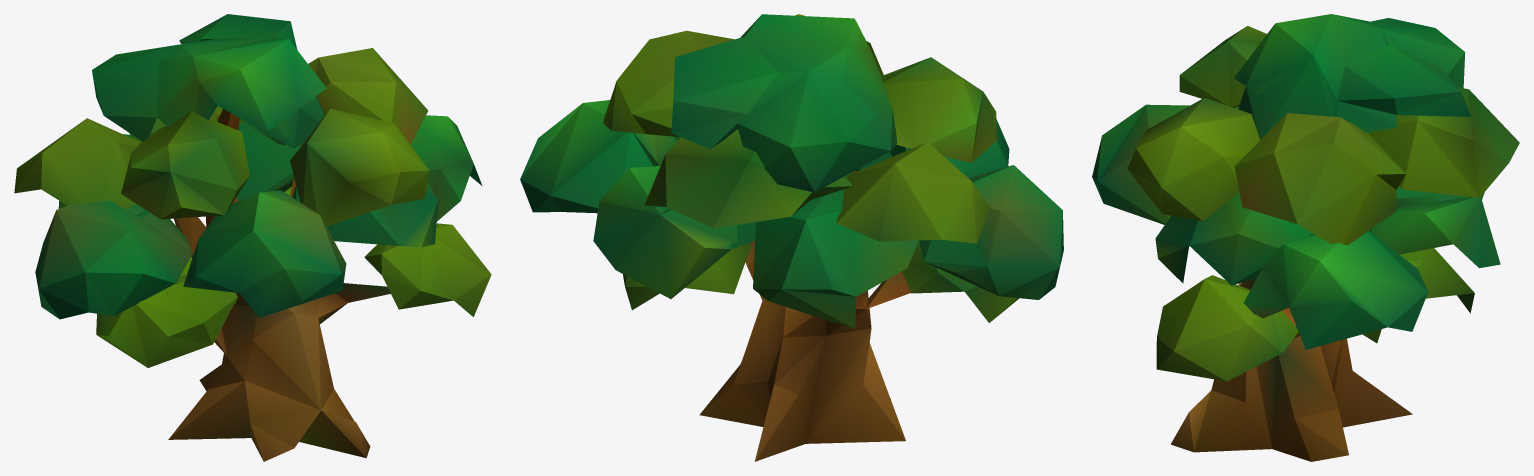
Rendered from chinar_lo.glb.
The picture shows the model from 3 angles, left to right: view 1: azimuth 30°, elevation 25°; view 2: azimuth 150°, elevation 25°; view 3: azimuth 270°, elevation 25°; orthographic projection. The views are drawn at different scales.
Parts seen in each view (by area): view 1: geometry_0; view 2: geometry_0; view 3: geometry_0.
Part boxes in pixels (x1,y1,x2,y2): geometry_0: (14, 14, 491, 461); geometry_0: (520, 14, 1063, 461); geometry_0: (1092, 14, 1519, 461).
Bounding box in the file's own units: 0.9443 × 0.7412 × 0.7476.
